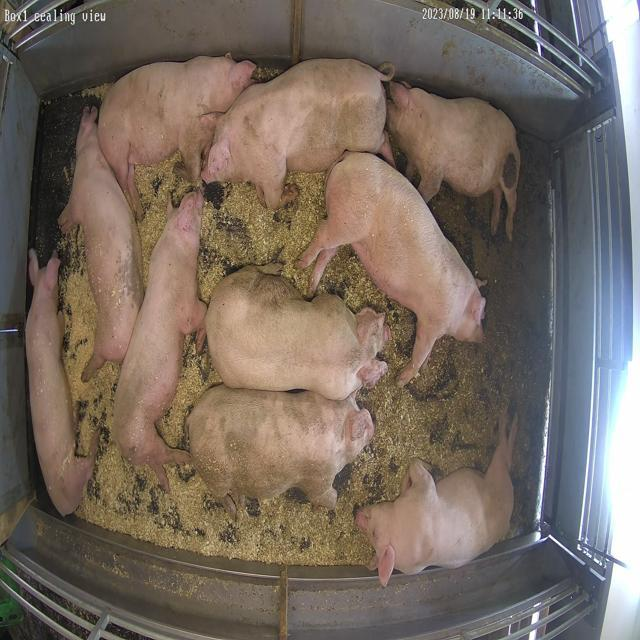Dirt: (404, 133, 554, 536)
Pig: (298, 152, 487, 386), (202, 58, 394, 208), (112, 191, 207, 490), (357, 418, 518, 586), (205, 264, 390, 400), (99, 55, 256, 214), (186, 385, 374, 516), (58, 106, 143, 380), (388, 82, 522, 240), (25, 250, 94, 516)
